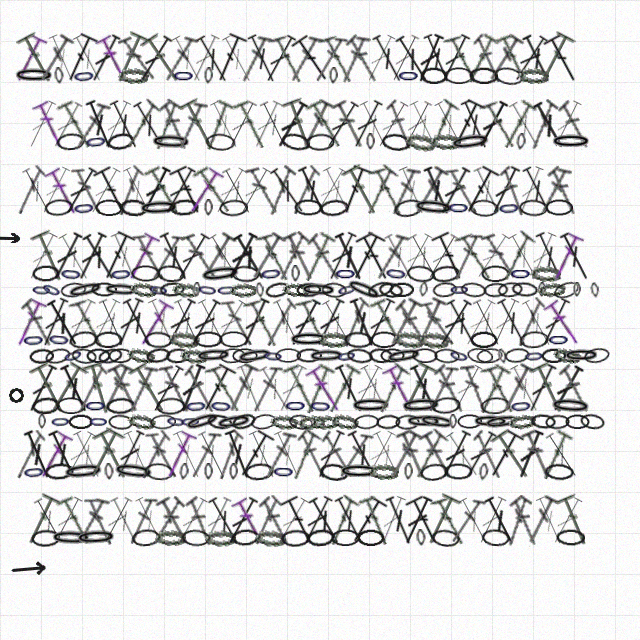chain: (344, 276, 383, 304), (183, 409, 222, 434), (449, 131, 492, 153), (199, 263, 242, 285), (412, 197, 455, 218), (62, 461, 105, 482), (112, 461, 155, 482), (549, 396, 592, 416), (66, 279, 105, 301), (400, 396, 442, 415), (75, 528, 117, 547), (236, 346, 274, 366), (385, 346, 423, 366), (215, 412, 253, 432), (418, 412, 456, 432), (483, 412, 521, 432), (150, 133, 192, 151), (138, 199, 180, 217), (50, 529, 92, 547), (404, 131, 437, 153), (13, 67, 55, 84), (550, 133, 592, 150), (288, 331, 330, 348), (350, 397, 392, 414), (338, 463, 380, 480), (493, 65, 524, 87), (280, 131, 311, 153), (393, 197, 424, 219), (68, 329, 99, 350), (552, 279, 581, 301), (106, 131, 136, 152), (195, 347, 232, 364), (366, 279, 395, 300), (168, 330, 200, 349), (393, 330, 425, 349), (381, 132, 411, 152), (319, 198, 349, 218), (431, 264, 461, 284), (319, 462, 349, 482), (419, 462, 449, 482), (103, 282, 140, 298), (300, 282, 337, 298), (308, 348, 345, 364), (480, 396, 511, 415), (230, 411, 258, 432), (406, 264, 435, 284), (431, 528, 460, 548), (418, 331, 450, 349), (44, 198, 74, 217), (169, 198, 199, 217), (156, 264, 186, 283), (519, 330, 549, 349), (126, 346, 156, 365), (552, 346, 582, 365), (431, 396, 461, 415), (507, 412, 537, 431), (44, 462, 74, 481), (144, 462, 174, 481), (244, 462, 274, 481), (131, 528, 161, 547), (44, 346, 72, 366), (205, 133, 236, 151), (205, 529, 236, 547), (255, 529, 286, 547), (563, 348, 600, 363), (405, 414, 442, 429), (472, 414, 509, 429), (56, 132, 85, 151), (119, 198, 148, 217), (31, 396, 60, 415), (127, 412, 156, 431), (330, 412, 359, 431), (231, 528, 260, 547), (306, 528, 335, 547), (481, 528, 510, 547), (39, 279, 64, 301), (469, 199, 499, 217), (264, 280, 291, 300), (97, 346, 124, 366), (544, 463, 574, 481), (181, 529, 211, 547), (466, 346, 494, 365), (583, 346, 611, 365), (250, 412, 278, 431), (118, 67, 149, 84), (518, 67, 549, 84), (430, 133, 461, 150), (530, 265, 561, 282), (318, 331, 349, 348), (368, 463, 399, 480), (155, 529, 186, 546), (306, 133, 335, 151), (219, 199, 248, 217), (519, 199, 548, 217), (231, 265, 260, 283), (144, 331, 173, 349), (344, 331, 373, 349), (106, 397, 135, 415), (156, 397, 185, 415), (297, 413, 326, 431), (31, 529, 60, 547), (281, 529, 310, 547), (145, 346, 172, 365), (579, 412, 606, 431), (444, 67, 474, 84), (56, 397, 86, 414), (61, 345, 85, 366), (469, 67, 498, 84), (294, 199, 323, 216), (131, 265, 160, 282), (481, 265, 510, 282), (129, 281, 158, 298), (537, 281, 566, 298), (94, 331, 123, 348), (194, 331, 223, 348), (219, 331, 248, 348), (444, 463, 473, 480), (331, 529, 360, 546), (556, 529, 585, 546), (60, 281, 87, 299), (460, 281, 487, 299), (346, 347, 373, 365), (206, 413, 233, 431), (447, 346, 471, 366), (420, 67, 448, 84), (95, 199, 123, 216), (545, 199, 573, 216), (32, 265, 60, 282), (370, 331, 398, 348), (470, 331, 498, 348), (357, 529, 385, 546), (378, 281, 404, 299), (71, 347, 97, 365), (288, 413, 314, 431), (511, 281, 538, 298), (219, 347, 246, 364), (476, 347, 503, 364), (84, 132, 108, 151), (259, 264, 283, 283), (384, 264, 408, 283), (335, 280, 359, 299), (47, 330, 71, 349), (172, 282, 200, 298), (229, 282, 257, 298), (180, 348, 208, 364), (270, 414, 298, 430), (311, 414, 339, 430), (159, 281, 185, 298), (432, 281, 458, 298), (497, 281, 523, 298), (165, 347, 191, 364), (368, 347, 394, 364), (504, 347, 530, 364), (530, 413, 556, 430), (72, 67, 96, 85), (72, 199, 96, 217), (497, 199, 521, 217), (59, 265, 83, 283), (109, 265, 133, 283), (184, 397, 208, 415), (209, 397, 233, 415), (509, 397, 533, 415), (22, 463, 46, 481), (282, 282, 310, 297), (321, 282, 347, 298), (483, 282, 509, 298), (434, 348, 460, 364), (150, 414, 176, 430), (147, 281, 170, 299), (196, 281, 219, 299), (22, 331, 45, 349), (335, 347, 358, 365), (309, 397, 332, 415), (296, 282, 321, 298), (29, 348, 54, 364), (108, 414, 133, 430), (354, 414, 379, 430), (376, 414, 401, 430), (395, 414, 420, 430), (545, 414, 570, 430), (172, 67, 195, 84), (397, 67, 420, 84), (447, 199, 470, 216), (334, 265, 357, 282), (509, 265, 532, 282), (547, 331, 570, 348), (84, 397, 107, 414), (284, 397, 307, 414), (272, 463, 295, 480), (91, 282, 117, 297), (232, 348, 258, 363), (275, 348, 301, 363), (296, 348, 322, 363), (412, 348, 438, 363), (389, 282, 414, 297), (86, 348, 111, 363), (108, 348, 133, 363), (380, 348, 405, 363), (541, 348, 566, 363), (68, 414, 93, 429), (457, 414, 482, 429), (565, 414, 590, 429), (165, 413, 187, 430), (262, 348, 284, 364), (523, 348, 545, 364), (31, 282, 52, 298), (216, 282, 237, 298), (449, 282, 470, 297), (50, 414, 71, 429), (88, 414, 109, 429), (180, 414, 201, 429), (478, 463, 489, 481), (497, 348, 508, 364), (54, 67, 64, 84), (516, 133, 526, 150), (104, 463, 114, 480), (179, 463, 189, 480), (416, 529, 426, 546), (255, 282, 265, 298), (590, 282, 600, 298), (204, 67, 213, 84), (329, 67, 338, 84), (366, 133, 375, 150), (204, 199, 213, 216), (291, 265, 300, 282), (204, 463, 213, 480), (229, 463, 238, 480), (404, 463, 413, 480), (192, 282, 201, 297), (419, 282, 428, 297), (538, 282, 546, 297), (573, 282, 581, 297), (38, 414, 46, 429), (449, 414, 457, 429)
double: (140, 32, 186, 86), (490, 428, 536, 482), (290, 32, 335, 86), (45, 361, 89, 416), (128, 361, 172, 416), (345, 494, 389, 548), (16, 31, 59, 86), (178, 97, 221, 152), (341, 163, 384, 218), (83, 427, 126, 482), (233, 428, 276, 482), (483, 428, 526, 482), (534, 31, 576, 86), (29, 361, 71, 416), (396, 361, 438, 416), (92, 427, 134, 482), (120, 98, 163, 151), (191, 164, 234, 217), (542, 32, 584, 86), (459, 164, 501, 218), (354, 230, 396, 284), (196, 362, 238, 416), (446, 97, 487, 152), (529, 361, 570, 416), (21, 493, 62, 548), (279, 493, 320, 548), (404, 493, 445, 548), (421, 493, 462, 548), (496, 98, 538, 151), (454, 230, 496, 283), (92, 164, 133, 218), (346, 230, 387, 284), (60, 31, 100, 86), (110, 31, 150, 86), (168, 163, 208, 218), (30, 229, 70, 284), (97, 229, 137, 284), (430, 229, 470, 284), (555, 493, 595, 548), (509, 33, 551, 85), (304, 98, 345, 151), (479, 98, 520, 151), (142, 164, 183, 217), (204, 362, 245, 415), (321, 362, 362, 415), (409, 428, 450, 481), (55, 98, 95, 152), (297, 230, 337, 284), (68, 296, 108, 350), (372, 362, 412, 416), (472, 362, 512, 416), (210, 31, 249, 86), (267, 165, 309, 216), (471, 231, 513, 282), (542, 297, 584, 348), (442, 429, 484, 480), (134, 33, 175, 85), (392, 33, 433, 85), (484, 33, 525, 85), (321, 99, 362, 151), (184, 165, 225, 217), (79, 231, 120, 283), (209, 297, 250, 349), (434, 297, 475, 349), (304, 363, 345, 415), (542, 429, 583, 481), (460, 32, 500, 85), (360, 164, 400, 217), (497, 230, 537, 283), (268, 32, 307, 86), (318, 32, 357, 86), (443, 32, 482, 86), (368, 164, 407, 218), (255, 230, 294, 284), (243, 296, 282, 350), (368, 296, 407, 350), (480, 362, 519, 416), (535, 428, 574, 482), (55, 494, 94, 548), (230, 494, 269, 548), (430, 494, 469, 548), (281, 97, 319, 152), (35, 33, 75, 85), (193, 33, 233, 85), (130, 99, 170, 151), (372, 99, 412, 151), (505, 99, 545, 151), (60, 165, 100, 217), (210, 165, 250, 217), (310, 165, 350, 217), (410, 165, 450, 217), (172, 231, 212, 283), (197, 231, 237, 283), (205, 231, 245, 283), (230, 231, 270, 283), (247, 231, 287, 283), (422, 231, 462, 283), (43, 297, 83, 349), (135, 297, 175, 349), (318, 297, 358, 349), (147, 363, 187, 415), (255, 363, 295, 415), (547, 363, 587, 415), (460, 429, 500, 481), (272, 495, 312, 547), (305, 495, 345, 547), (231, 98, 269, 152), (423, 98, 461, 152), (294, 296, 332, 350), (281, 362, 319, 416), (298, 362, 336, 416), (323, 494, 361, 548), (336, 163, 373, 218), (168, 33, 207, 85), (218, 33, 257, 85), (260, 33, 299, 85), (47, 99, 86, 151), (272, 99, 311, 151), (530, 99, 569, 151), (18, 165, 57, 217), (43, 165, 82, 217), (85, 165, 124, 217), (160, 165, 199, 217), (218, 165, 257, 217), (235, 165, 274, 217), (435, 165, 474, 217), (55, 231, 94, 283), (380, 231, 419, 283), (397, 231, 436, 283), (405, 231, 444, 283), (505, 231, 544, 283), (185, 297, 224, 349), (285, 297, 324, 349), (385, 297, 424, 349), (443, 297, 482, 349), (460, 297, 499, 349), (518, 297, 557, 349), (35, 429, 74, 481), (60, 429, 99, 481), (385, 429, 424, 481), (418, 429, 457, 481), (30, 495, 69, 547), (155, 495, 194, 547), (172, 495, 211, 547), (205, 495, 244, 547), (222, 495, 261, 547), (455, 495, 494, 547), (547, 495, 586, 547), (69, 32, 107, 85), (86, 32, 124, 85), (94, 32, 132, 85), (361, 32, 399, 85), (369, 32, 407, 85), (206, 98, 244, 151), (223, 98, 261, 151), (331, 98, 369, 151), (348, 98, 386, 151), (398, 98, 436, 151), (431, 98, 469, 151), (473, 98, 511, 151), (36, 164, 74, 217), (119, 164, 157, 217), (136, 164, 174, 217), (519, 164, 557, 217), (23, 230, 61, 283), (48, 230, 86, 283), (123, 230, 161, 283), (223, 230, 261, 283), (281, 230, 319, 283), (556, 230, 594, 283), (61, 296, 99, 349), (86, 296, 124, 349), (119, 296, 157, 349), (161, 296, 199, 349), (194, 296, 232, 349), (494, 296, 532, 349), (106, 362, 144, 415), (348, 362, 386, 415), (356, 362, 394, 415), (381, 362, 419, 415), (448, 362, 486, 415), (498, 362, 536, 415), (506, 362, 544, 415), (344, 428, 382, 481), (361, 428, 399, 481), (436, 428, 474, 481), (48, 494, 86, 547), (98, 494, 136, 547), (131, 494, 169, 547), (298, 494, 336, 547), (331, 494, 369, 547), (481, 494, 519, 547), (494, 32, 531, 86), (148, 98, 185, 152), (198, 98, 235, 152), (286, 428, 323, 482), (11, 32, 48, 85), (186, 32, 223, 85), (244, 32, 281, 85), (386, 32, 423, 85), (436, 32, 473, 85), (519, 32, 556, 85), (23, 98, 60, 151), (31, 98, 68, 151), (98, 98, 135, 151), (106, 98, 143, 151), (248, 98, 285, 151), (256, 98, 293, 151), (298, 98, 335, 151), (356, 98, 393, 151), (406, 98, 443, 151), (548, 98, 585, 151), (294, 164, 331, 217), (319, 164, 356, 217), (469, 164, 506, 217), (486, 164, 523, 217), (73, 230, 110, 283), (156, 230, 193, 283), (323, 230, 360, 283), (331, 230, 368, 283), (548, 230, 585, 283), (11, 296, 48, 349), (144, 296, 181, 349), (269, 296, 306, 349), (311, 296, 348, 349), (361, 296, 398, 349), (469, 296, 506, 349), (536, 296, 573, 349), (23, 362, 60, 415), (56, 362, 93, 415), (98, 362, 135, 415), (273, 362, 310, 415), (331, 362, 368, 415), (406, 362, 443, 415), (523, 362, 560, 415), (69, 428, 106, 481), (111, 428, 148, 481), (161, 428, 198, 481), (169, 428, 206, 481), (194, 428, 231, 481), (369, 428, 406, 481), (106, 494, 143, 547), (198, 494, 235, 547), (473, 494, 510, 547), (523, 494, 560, 547), (118, 34, 157, 84), (305, 232, 344, 282), (393, 298, 432, 348), (147, 496, 186, 546), (161, 33, 199, 84), (82, 361, 117, 416), (457, 98, 493, 151), (524, 230, 560, 283), (532, 230, 568, 283), (170, 296, 206, 349), (237, 296, 273, 349), (412, 296, 448, 349), (487, 296, 523, 349), (224, 362, 260, 415), (45, 428, 81, 481), (120, 428, 156, 481), (245, 428, 281, 481), (270, 428, 306, 481), (312, 428, 348, 481), (395, 428, 431, 481), (520, 428, 556, 481), (399, 494, 435, 547), (532, 494, 568, 547), (73, 100, 111, 150), (419, 298, 457, 348), (336, 430, 374, 480), (357, 494, 392, 548), (344, 33, 381, 84), (556, 99, 593, 150), (181, 231, 218, 282), (273, 231, 310, 282), (373, 231, 410, 282), (481, 231, 518, 282), (19, 297, 56, 348), (319, 430, 357, 479), (448, 496, 486, 545), (45, 32, 80, 85), (412, 32, 447, 85), (420, 32, 455, 85), (82, 98, 117, 151), (395, 164, 430, 217), (420, 164, 455, 217), (107, 230, 142, 283), (37, 296, 72, 349), (95, 296, 130, 349), (112, 296, 147, 349), (20, 428, 55, 481), (382, 494, 417, 547), (287, 33, 323, 84), (432, 363, 468, 414), (557, 363, 593, 414), (74, 495, 110, 546), (257, 495, 293, 546), (513, 164, 547, 217), (346, 296, 380, 349), (175, 362, 209, 415), (233, 362, 267, 415), (221, 428, 255, 481), (513, 428, 547, 481), (375, 494, 409, 547), (312, 34, 348, 84), (149, 232, 185, 282), (262, 298, 298, 348), (182, 364, 218, 414), (245, 165, 280, 216), (445, 165, 480, 216), (537, 165, 572, 216), (132, 231, 167, 282), (74, 363, 109, 414), (145, 429, 180, 480), (262, 429, 297, 480), (295, 429, 330, 480), (525, 99, 559, 151), (263, 165, 297, 217), (125, 363, 159, 415), (12, 430, 47, 480), (137, 430, 172, 480), (238, 33, 272, 84), (471, 33, 505, 84), (13, 165, 47, 216), (288, 165, 322, 216), (546, 165, 580, 216), (221, 297, 255, 348), (513, 297, 547, 348), (425, 363, 459, 414), (188, 429, 222, 480), (471, 429, 505, 480), (338, 33, 371, 85), (158, 99, 191, 151), (175, 99, 208, 151), (388, 165, 421, 217), (508, 495, 541, 547), (71, 165, 104, 216), (250, 363, 283, 414), (250, 495, 283, 546), (159, 363, 191, 415), (184, 495, 216, 547), (501, 495, 533, 547), (384, 99, 416, 150), (451, 231, 483, 282), (339, 297, 371, 348), (126, 495, 158, 546), (114, 165, 145, 217), (214, 429, 245, 481), (84, 495, 115, 547), (498, 165, 528, 217), (460, 363, 489, 415)
noise: (10, 560, 48, 577), (6, 385, 26, 405), (0, 233, 22, 243)
